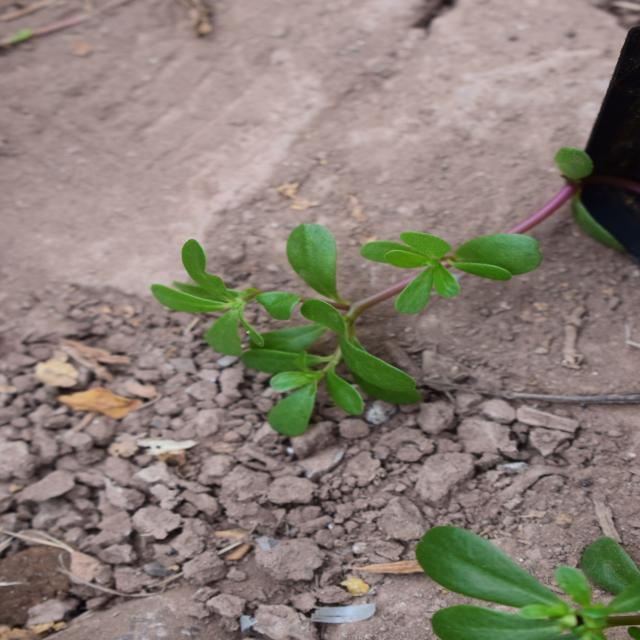purslane: (202, 146, 443, 557)
